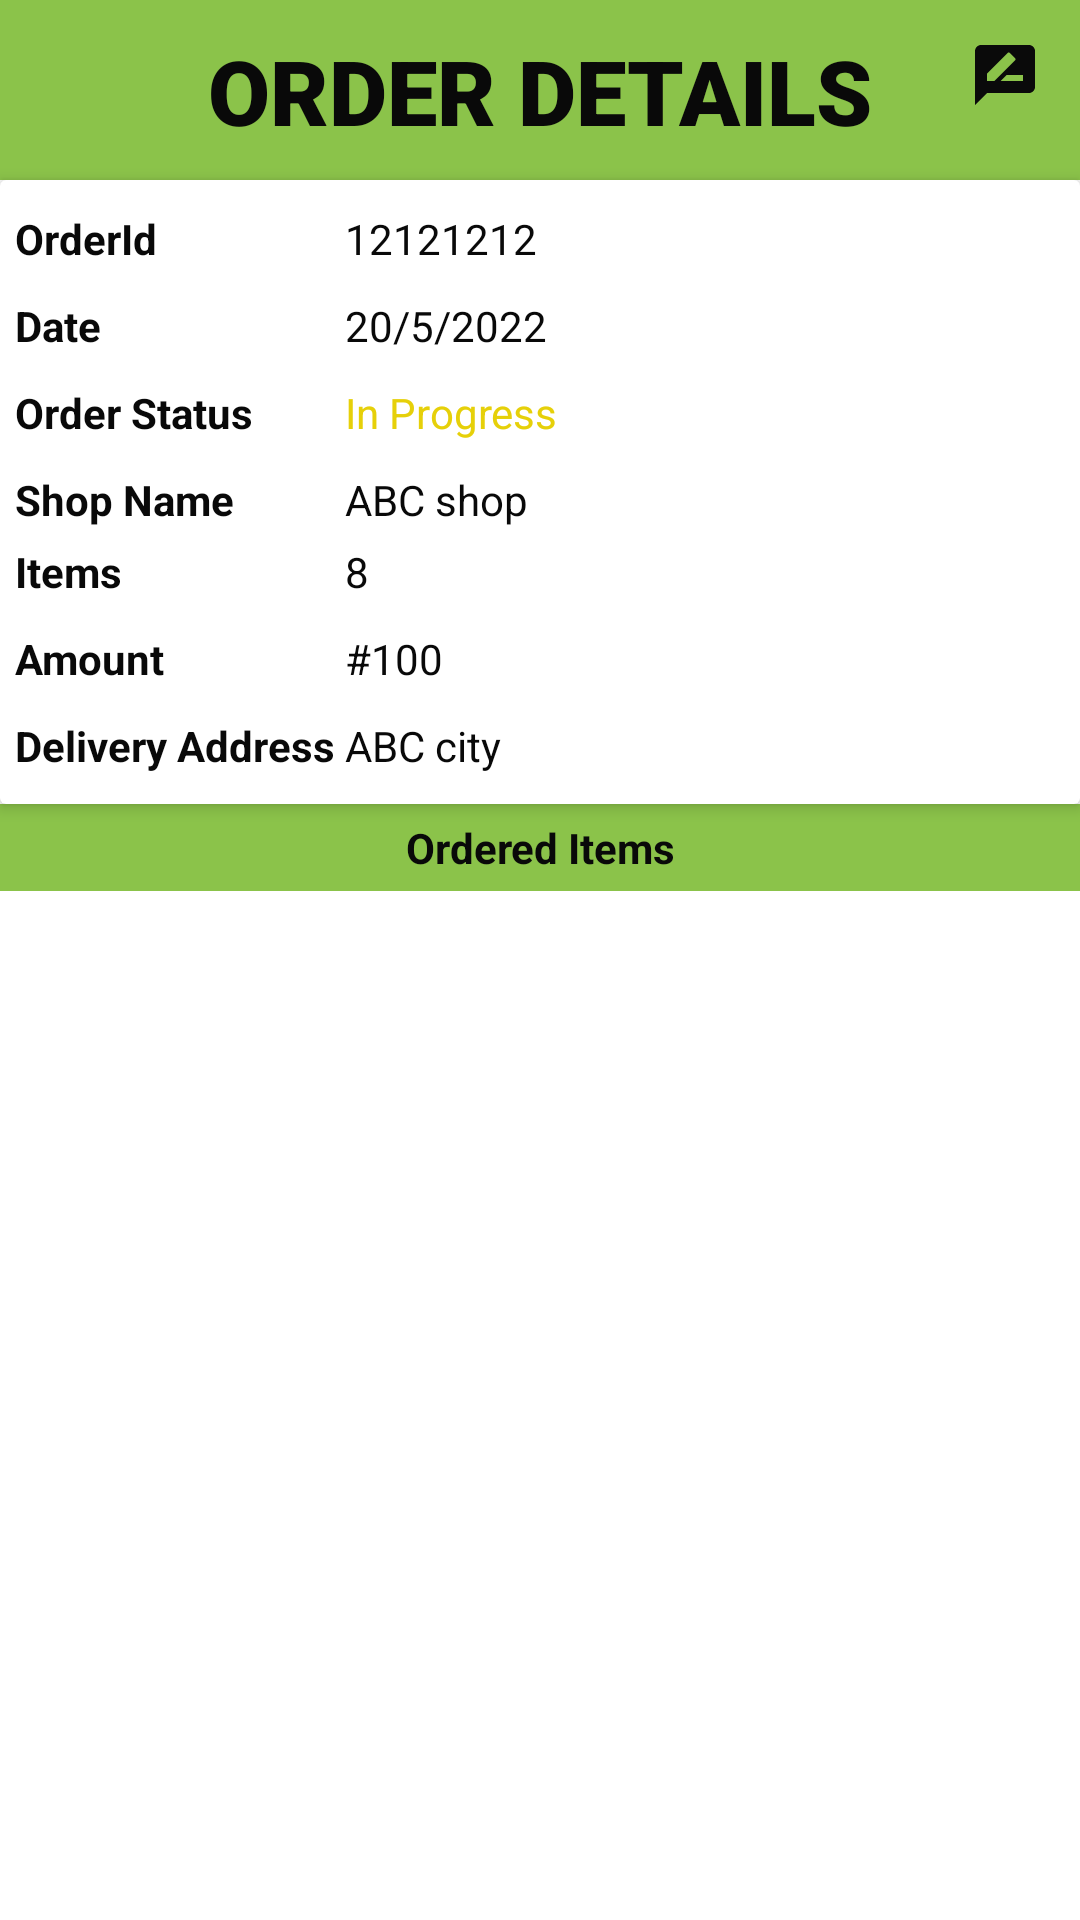

Locate icon controls on the screen. Image size 1080*1920, boxes as (x1, y1, x2, y2).
review: (975, 45, 1035, 105)
